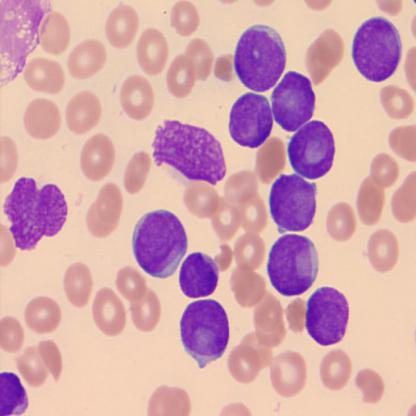Blast: (130, 209, 190, 279), (178, 297, 231, 371), (232, 23, 287, 94), (350, 15, 404, 84), (265, 230, 320, 297), (286, 117, 337, 181), (302, 284, 353, 347), (269, 68, 317, 134), (268, 173, 318, 236), (226, 92, 275, 152), (179, 250, 221, 302)
